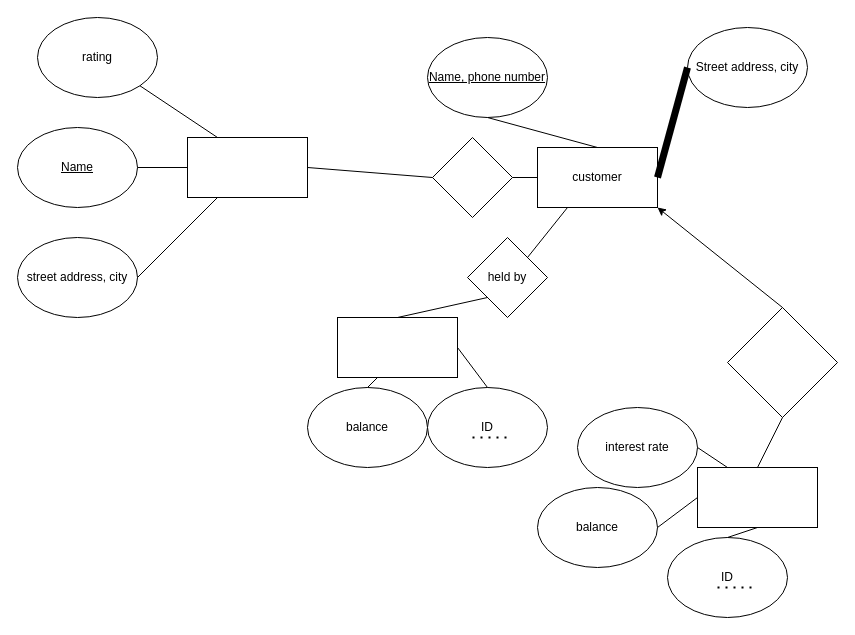
Image size: 855x635. Some labels were removed from this diagram. Here are the shapes that lost their labels. From the top down, the centre of each, then its label:
At [247,167]: "bank branch".
At [472,177]: "banks at".
At [397,347]: "Account".
At [782,362]: "loaned to".
At [757,497]: "Loan".
